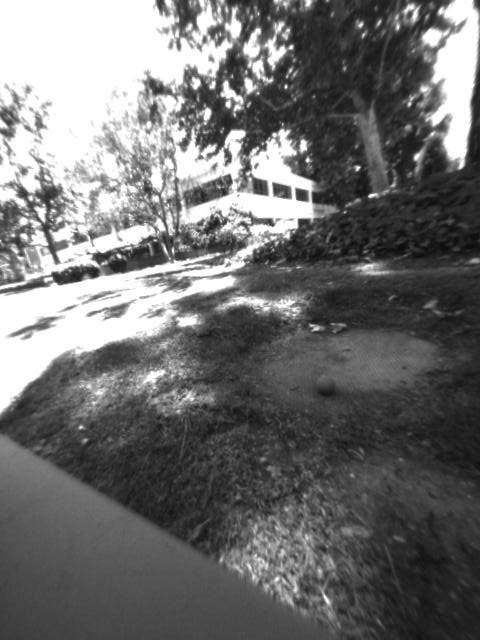dogtoy: (304, 367, 351, 408)
